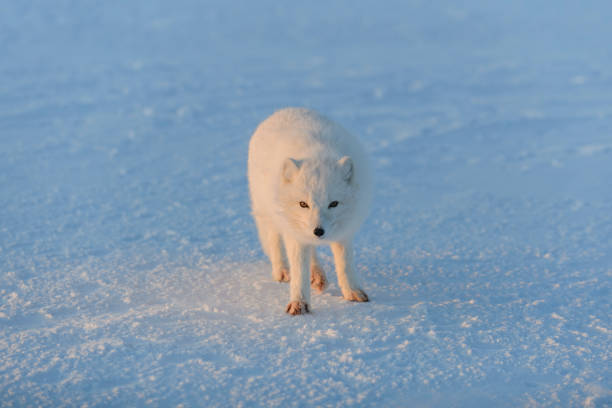arcticfox: (289, 173, 361, 247)
